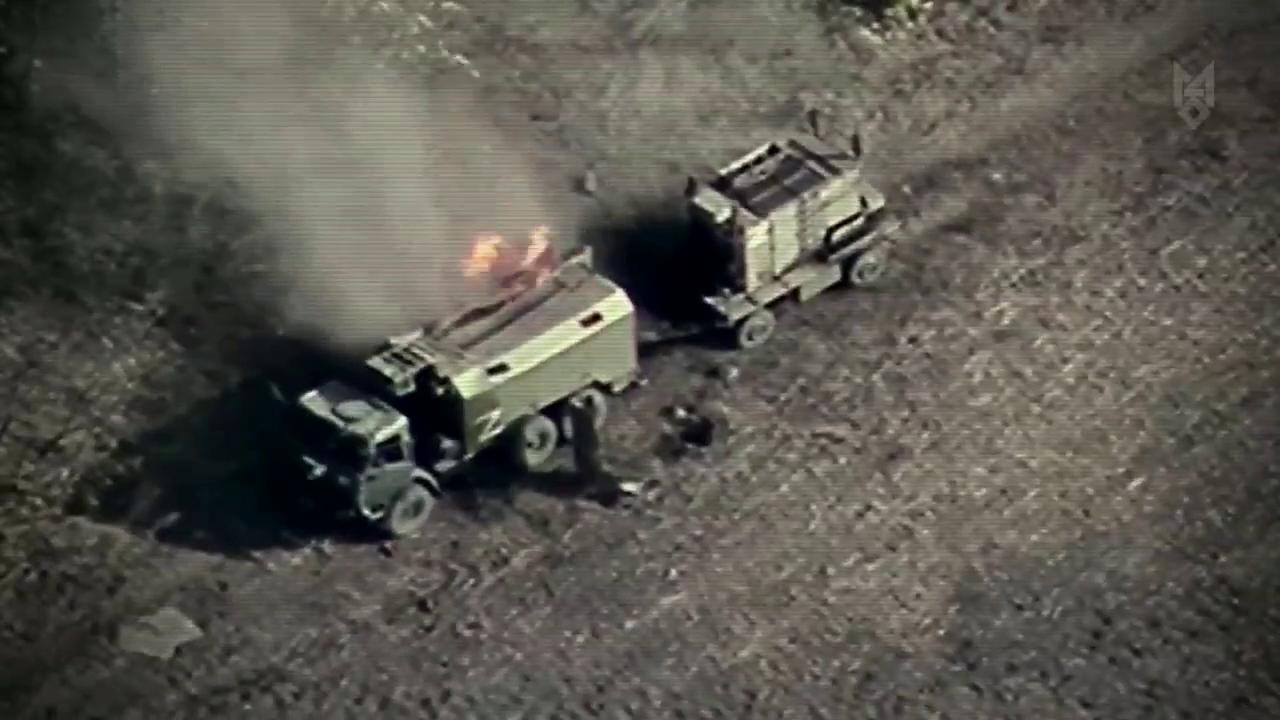tank: (286, 241, 651, 549), (661, 117, 909, 359)
